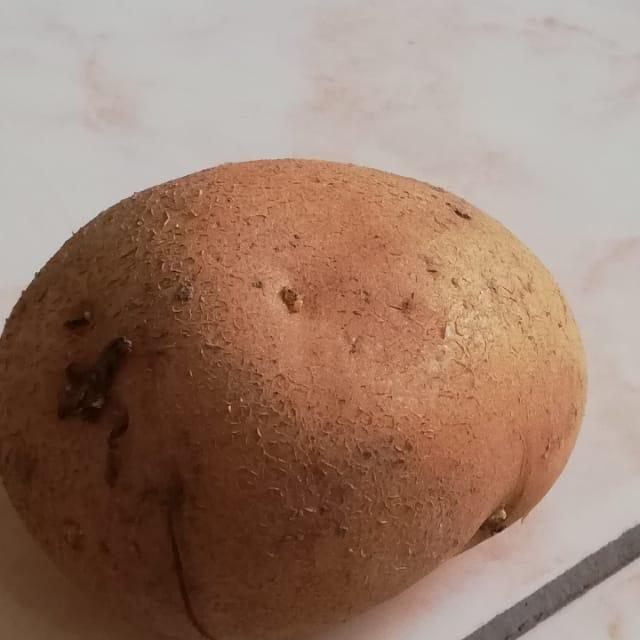potato: (0, 132, 615, 640)
